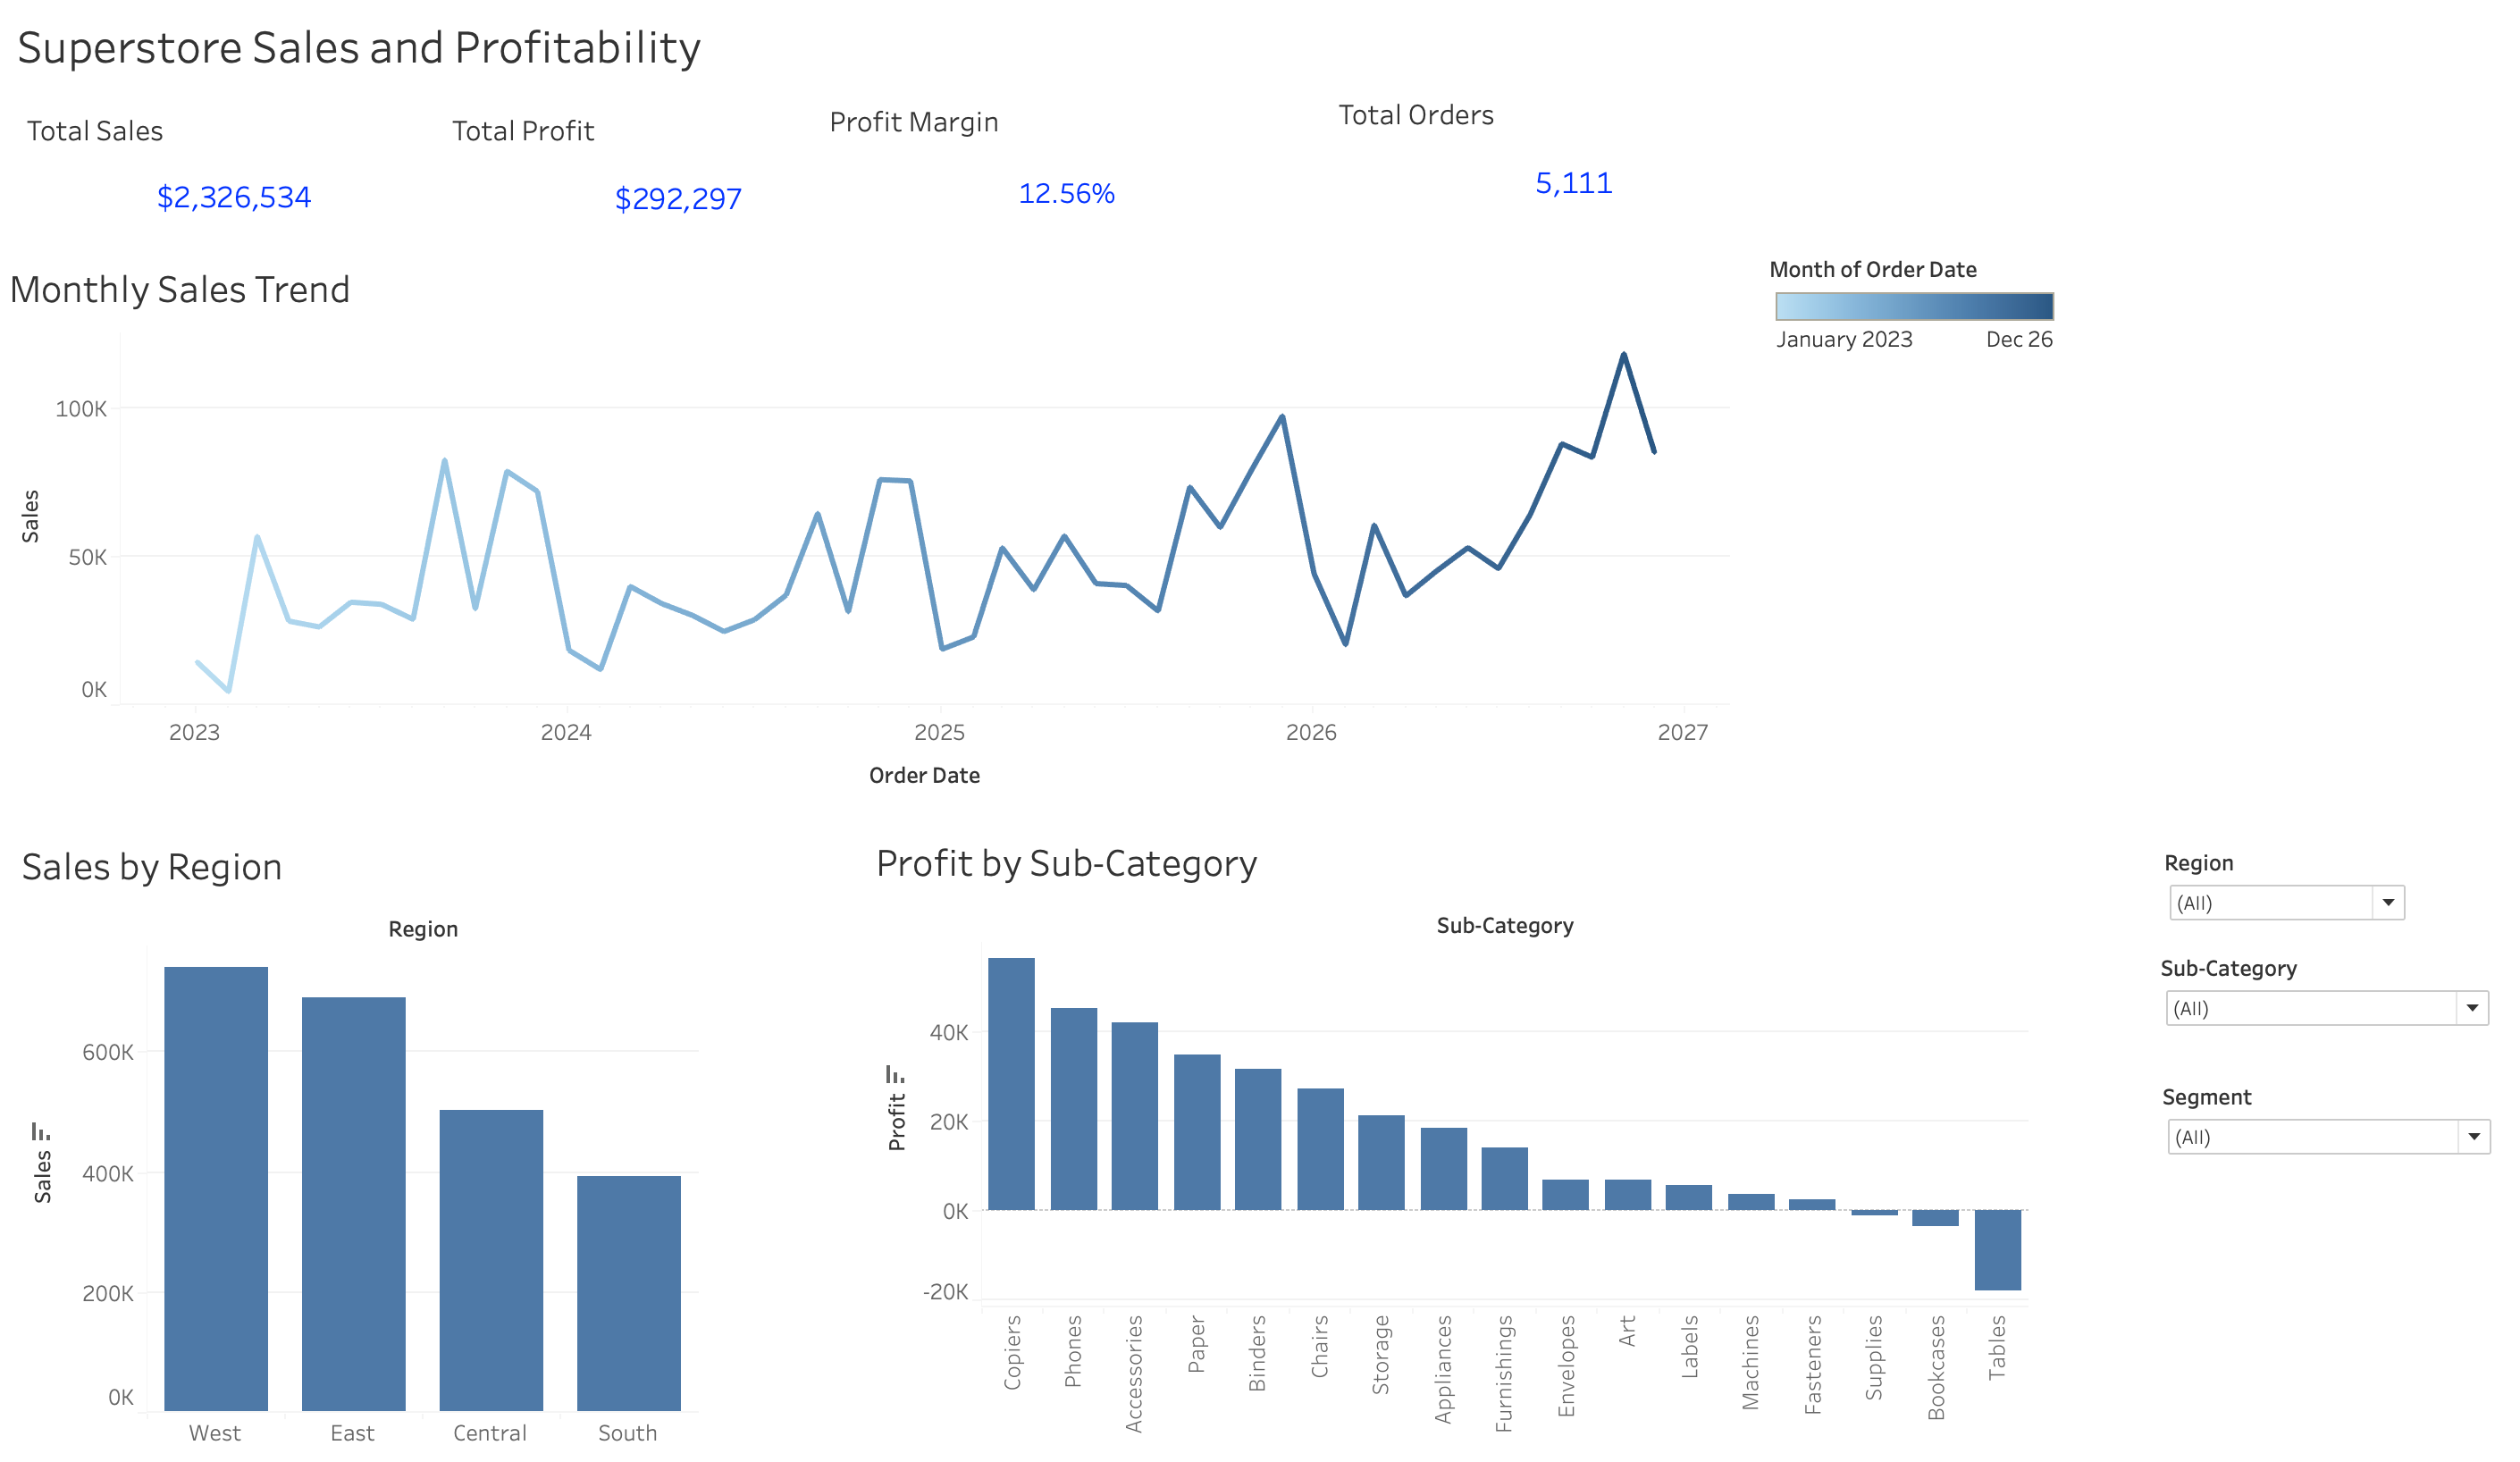

The page's visual inventory and layout, read from the dashboard file:
{"tool":"tableau","page":{"name":"Superstore Sales & Profitability Dashboard","canvas":[1000,1000],"units":"permille","ordinal":0},"visuals":[{"type":"title","box":[5.7,10.4,988.7,54.7]},{"type":"worksheet","title":"Total Orders","mark":"Automatic","box":[520.8,62.5,188.8,83.3]},{"type":"worksheet","title":"Profit Margin","mark":"Automatic","box":[323,67.7,189.6,88.5]},{"type":"worksheet","title":"Total Sales","mark":"Automatic","box":[11.4,72.9,167.6,80.7]},{"type":"worksheet","title":"Total Profit","mark":"Automatic","box":[176.6,72.9,182.3,84.6]},{"type":"legend","title":"Monthly Sales Trend","param":"[federated.0neyng91eba9r116ez76a0fl277y].[tmn:Order Date:qk]","box":[690.8,174.5,113.9,102.9]},{"type":"worksheet","title":"Monthly Sales Trend","mark":"Automatic","rows":["Sales"],"cols":["Order Date"],"box":[4.1,175.8,671.3,368.5]},{"type":"worksheet","title":"Profit by Sub-Category","mark":"Automatic","rows":["Profit"],"cols":["Sub-Category"],"box":[340.9,562.5,450.8,418]},{"type":"worksheet","title":"Sales by Region","mark":"Automatic","rows":["Sales"],"cols":["Region"],"box":[9,565.1,266.1,415.4]},{"type":"filter","title":"Sales by Region","param":"[federated.0neyng91eba9r116ez76a0fl277y].[none:Region:nk]","box":[844.6,574.2,96,79.4]},{"type":"filter","title":"Profit by Sub-Category","param":"[federated.0neyng91eba9r116ez76a0fl277y].[none:Sub-Category:nk]","box":[843,645.8,130.2,69]},{"type":"filter","title":"Profit by Sub-Category","param":"[federated.0neyng91eba9r116ez76a0fl277y].[none:Segment:nk]","box":[843.8,733.1,130.2,130.2]}]}

Visuals, with their boxes on the dashboard's canvas, which has no fixed pixel size, in thousandths of its width and height (x1, y1, x2, y2). These are canvas units, not pixel positions in the 2520x1462 screenshot, which may show the page scaled, cropped or inside an application window:
title: x1=6, y1=10, x2=994, y2=65
"Total Orders" worksheet: x1=521, y1=62, x2=710, y2=146
"Profit Margin" worksheet: x1=323, y1=68, x2=513, y2=156
"Total Sales" worksheet: x1=11, y1=73, x2=179, y2=154
"Total Profit" worksheet: x1=177, y1=73, x2=359, y2=158
"Monthly Sales Trend" legend: x1=691, y1=174, x2=805, y2=277
"Monthly Sales Trend" worksheet: x1=4, y1=176, x2=675, y2=544
"Profit by Sub-Category" worksheet: x1=341, y1=562, x2=792, y2=980
"Sales by Region" worksheet: x1=9, y1=565, x2=275, y2=980
"Sales by Region" filter: x1=845, y1=574, x2=941, y2=654
"Profit by Sub-Category" filter: x1=843, y1=646, x2=973, y2=715
"Profit by Sub-Category" filter: x1=844, y1=733, x2=974, y2=863
